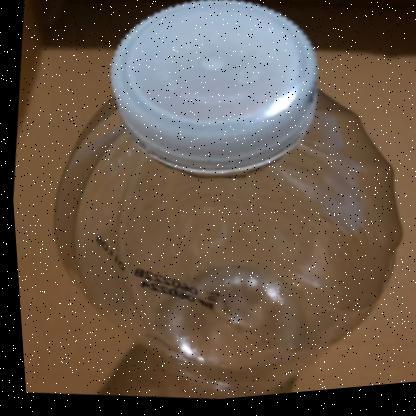bottle cap: (1, 1, 416, 411)
